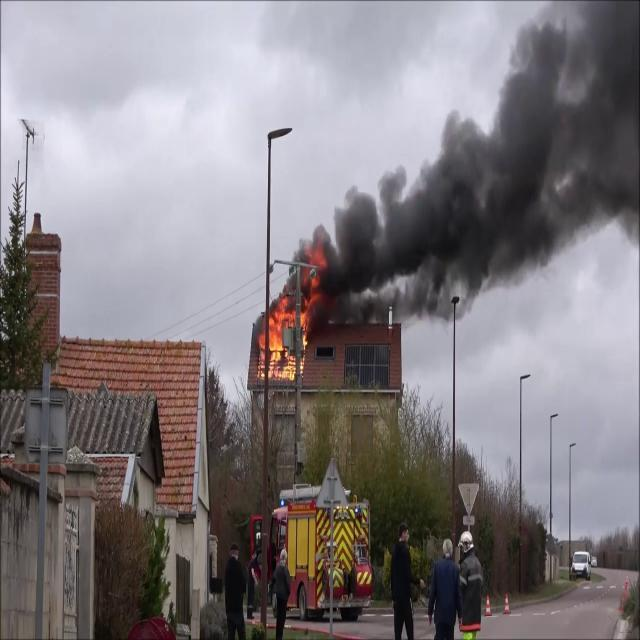Fire: (258, 299, 306, 383)
Smoke: (314, 2, 640, 320)
